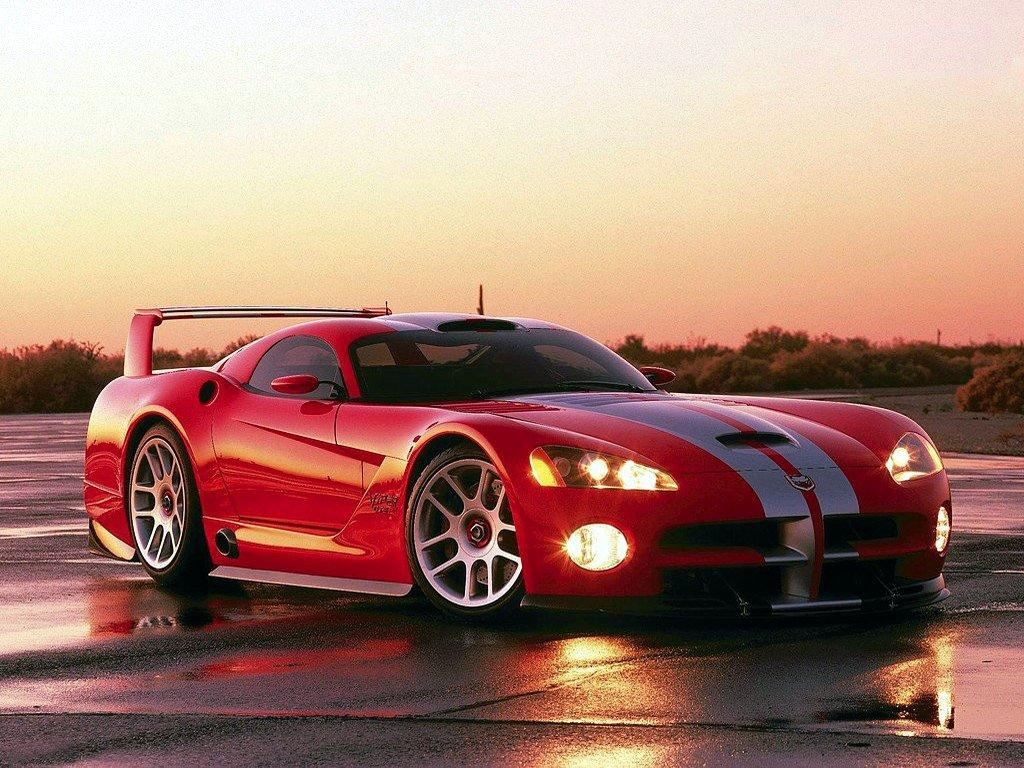small: (82, 301, 955, 627)
